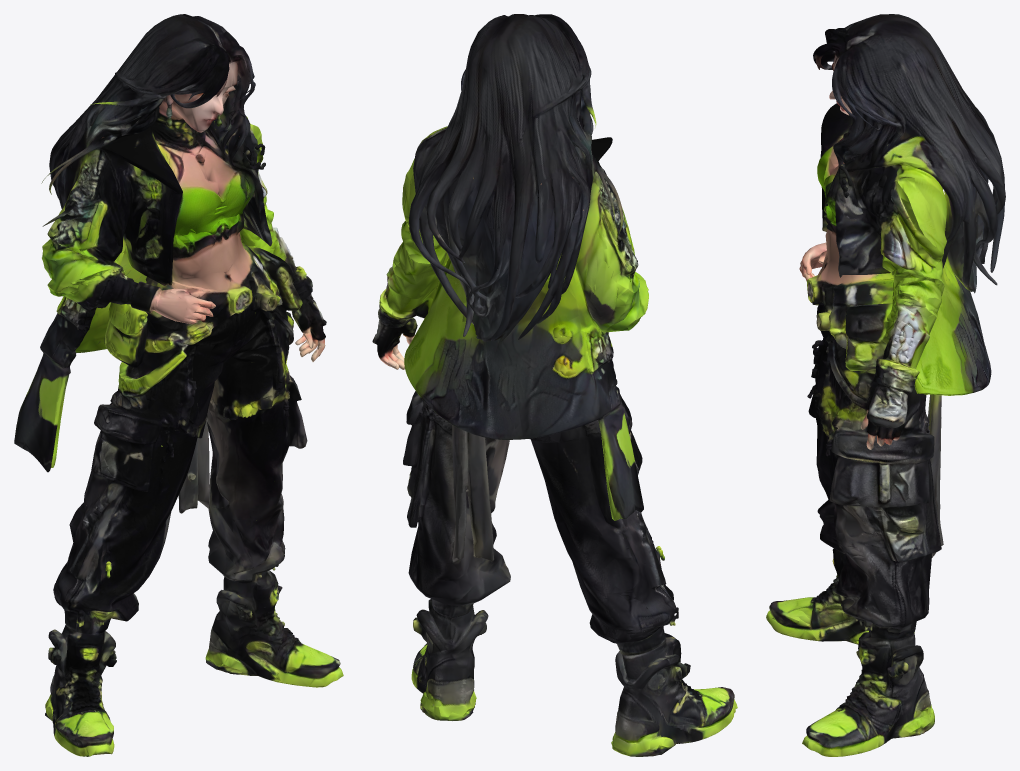
Rendered from zest.glb.
3 views of the same model, side by side, from view 1: azimuth 30°, elevation 25°; view 2: azimuth 150°, elevation 25°; view 3: azimuth 270°, elevation 25° (orthographic). The views are drawn at different scales.
Parts seen in each view (by area): view 1: model; view 2: model; view 3: model.
Part boxes in pixels (<box>): model: <box>14,14,343,756</box>; model: <box>372,14,737,756</box>; model: <box>766,14,1005,756</box>.
Bounding box in the file's own units: 0.8801 × 1.9 × 0.607.
Materials: 1 (1 with a texture image).
